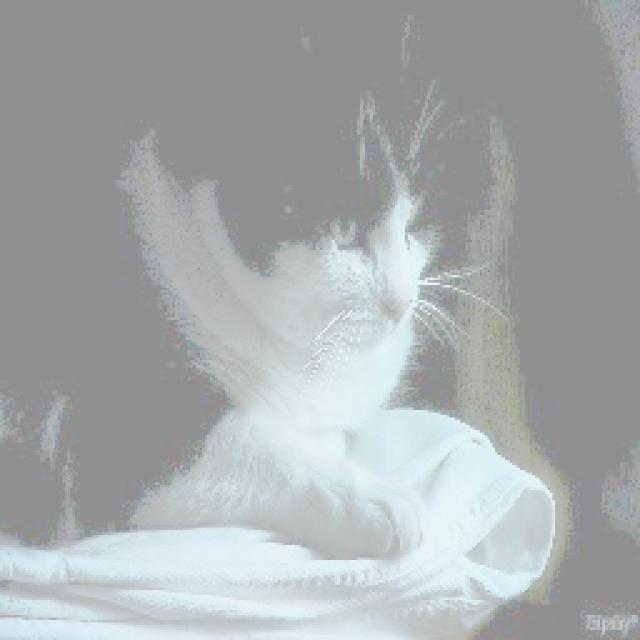cat: (23, 9, 500, 602)
